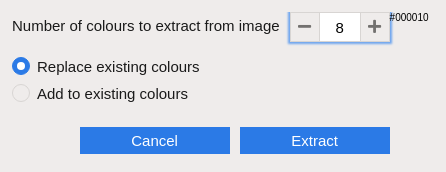
Scenario: Image colour extractor component › resets number of colours to 1 when value less than 1 entered
Replace the text in the number field with test id "ImageColourExtractor Number Input" with "0" at (340, 27), box [320, 12, 360, 42]
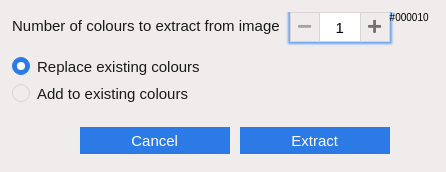
Check: the number field with test id "ImageColourExtractor Number Input" holds "1", box [320, 12, 360, 42]
